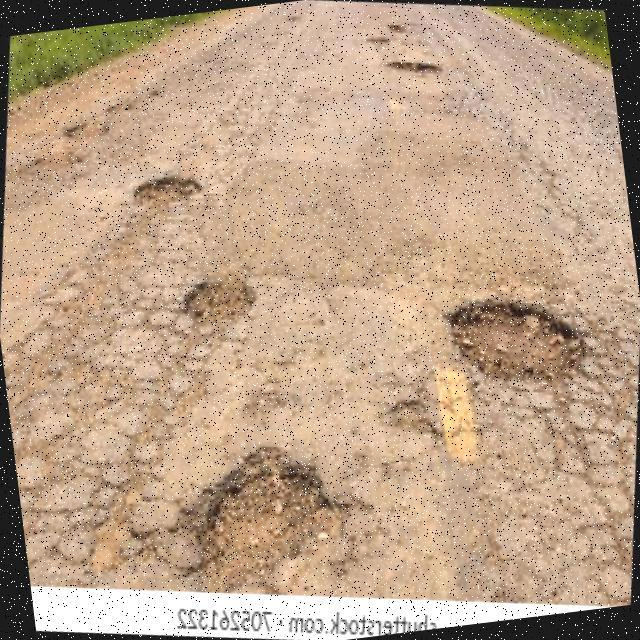Pothole: (193, 447, 349, 589), (446, 299, 585, 382), (181, 273, 257, 322), (131, 175, 203, 207)
